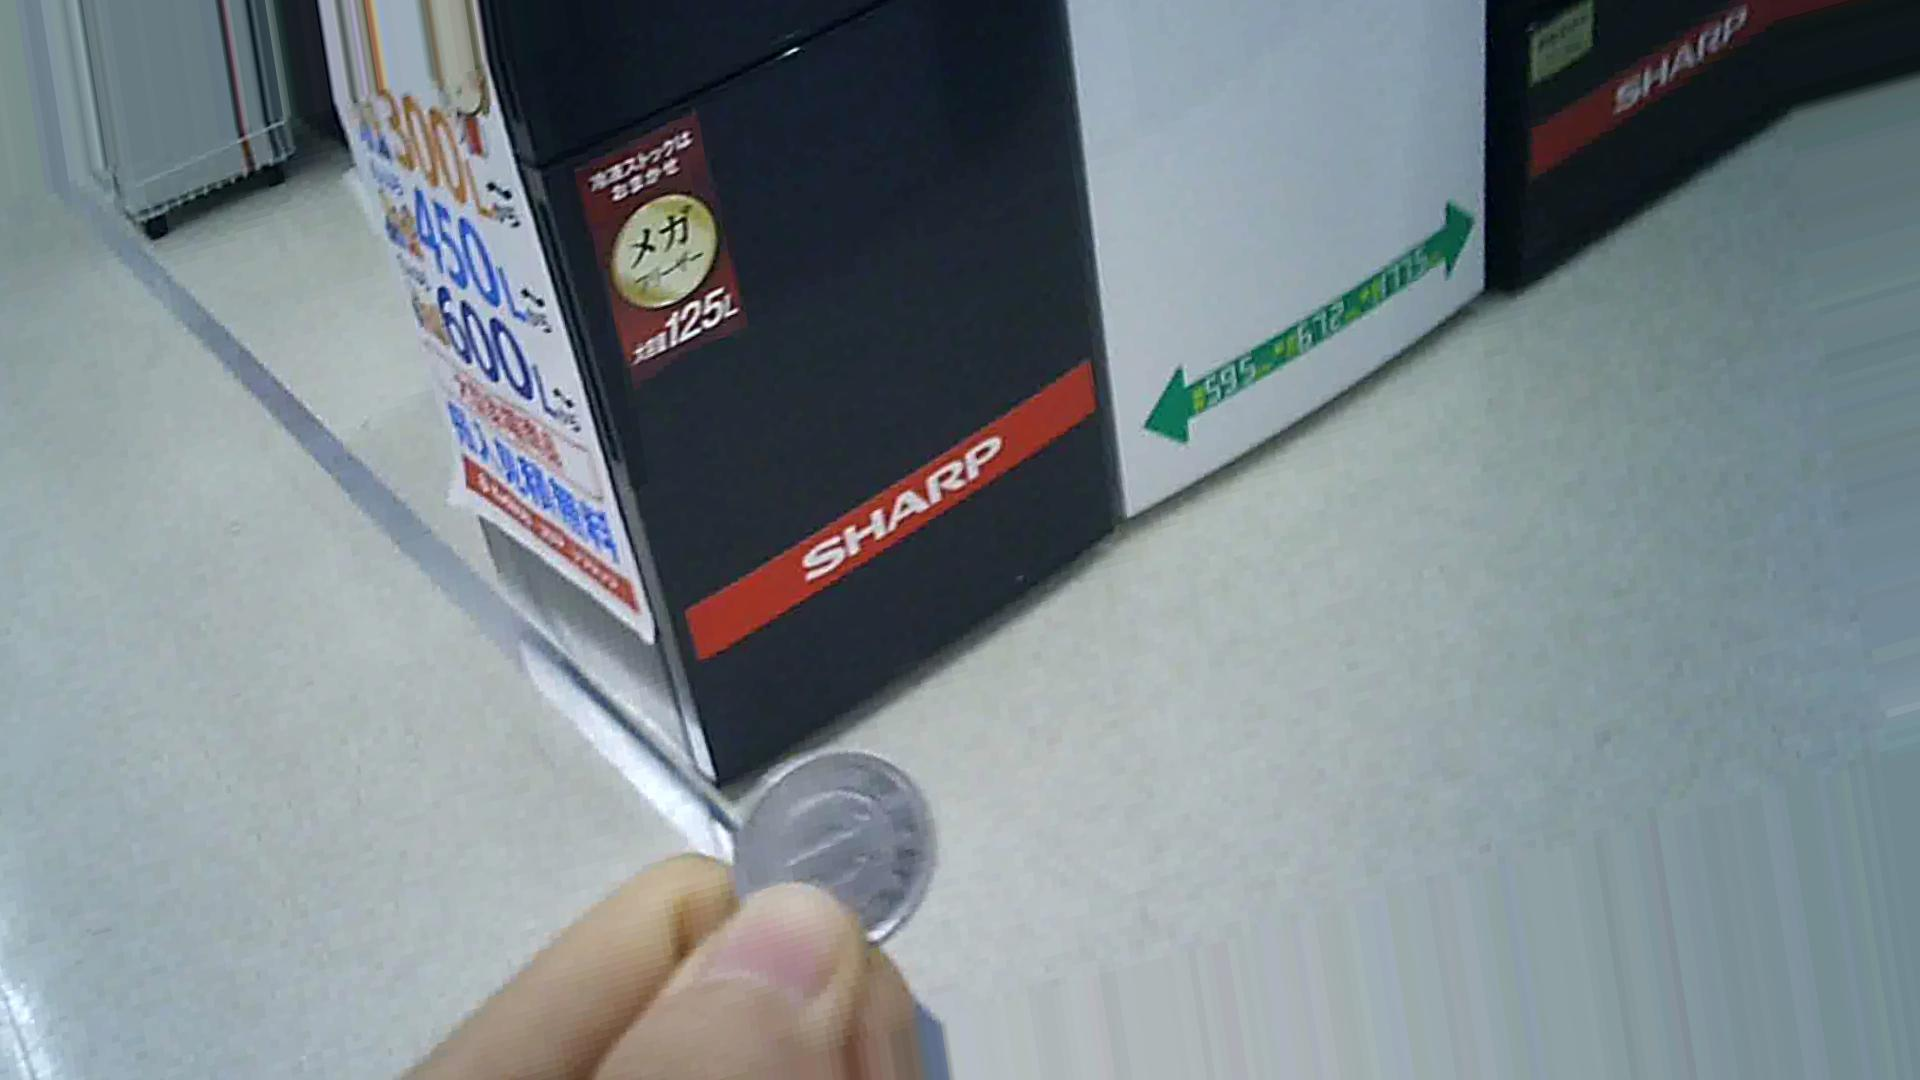1 Yen: (723, 744, 960, 963)
